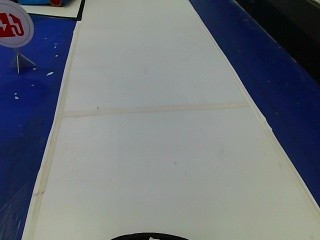battery: (0, 3, 31, 47)
